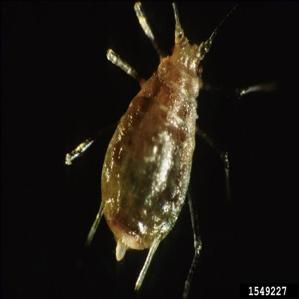Green peach aphid: (55, 0, 281, 277)
